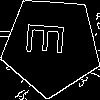E: (26, 21, 73, 57)
